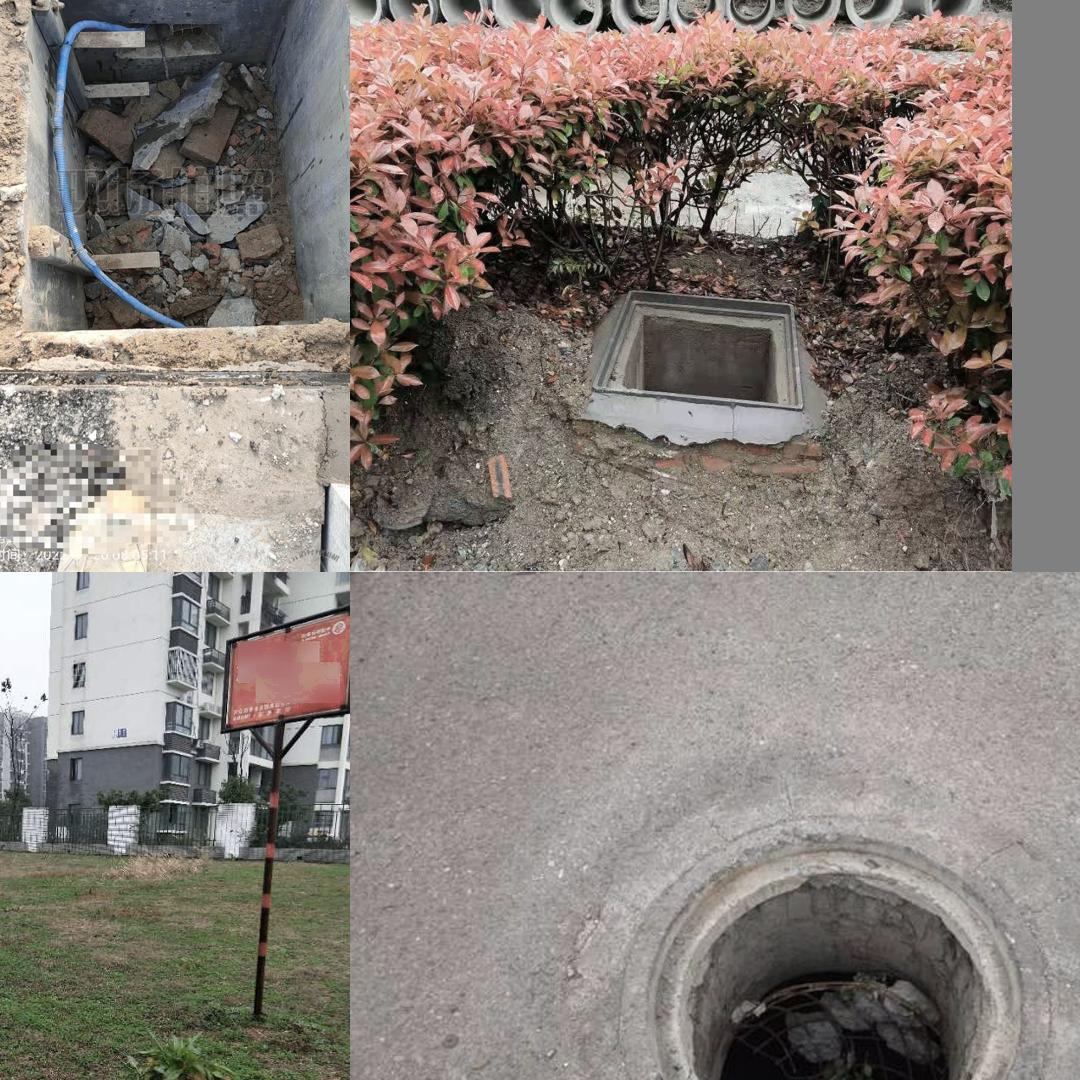lose: (0, 0, 350, 403), (606, 820, 1080, 1080), (590, 287, 807, 414)
